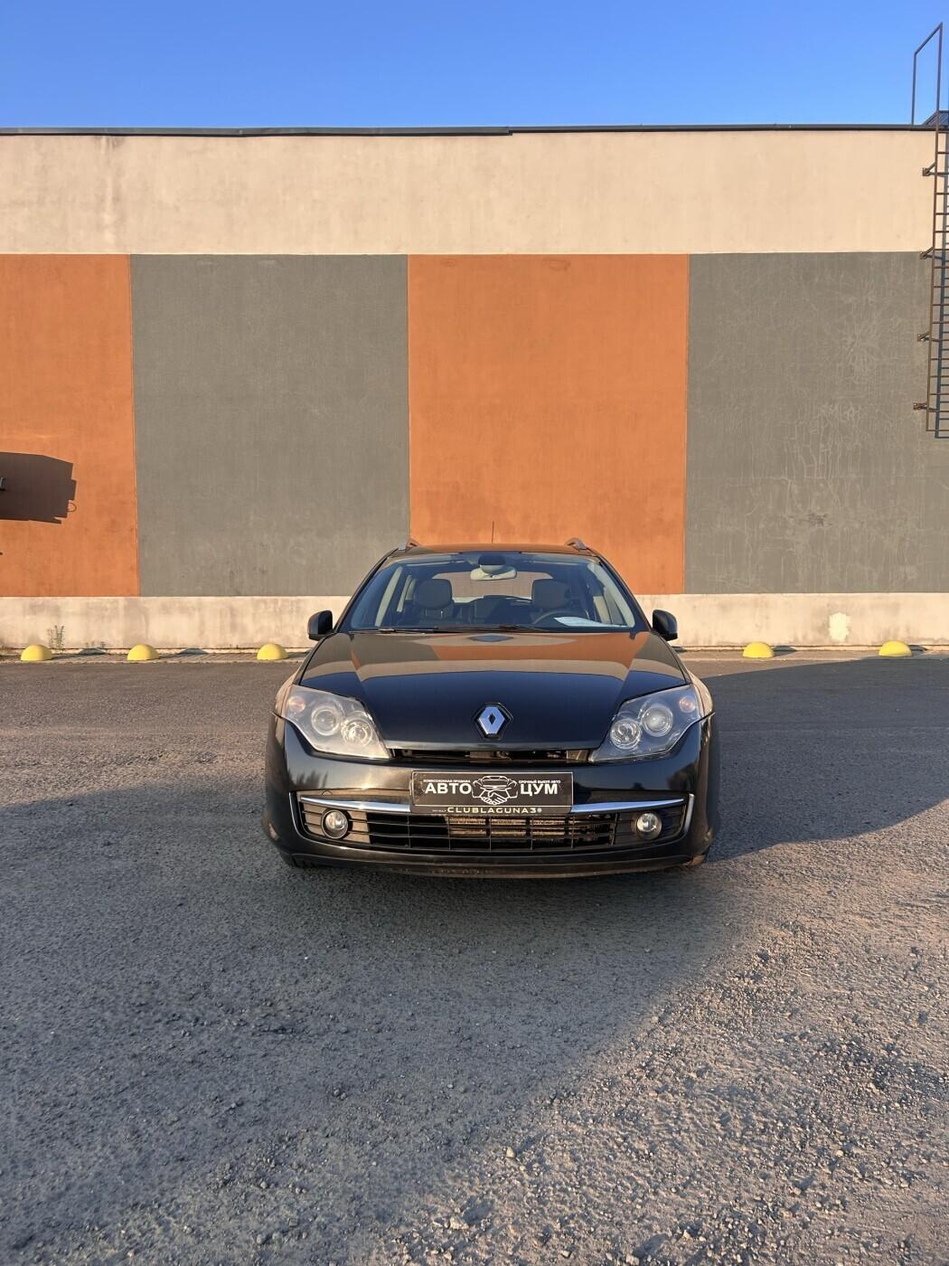Laguna_2007-2011: (264, 542, 719, 876)
